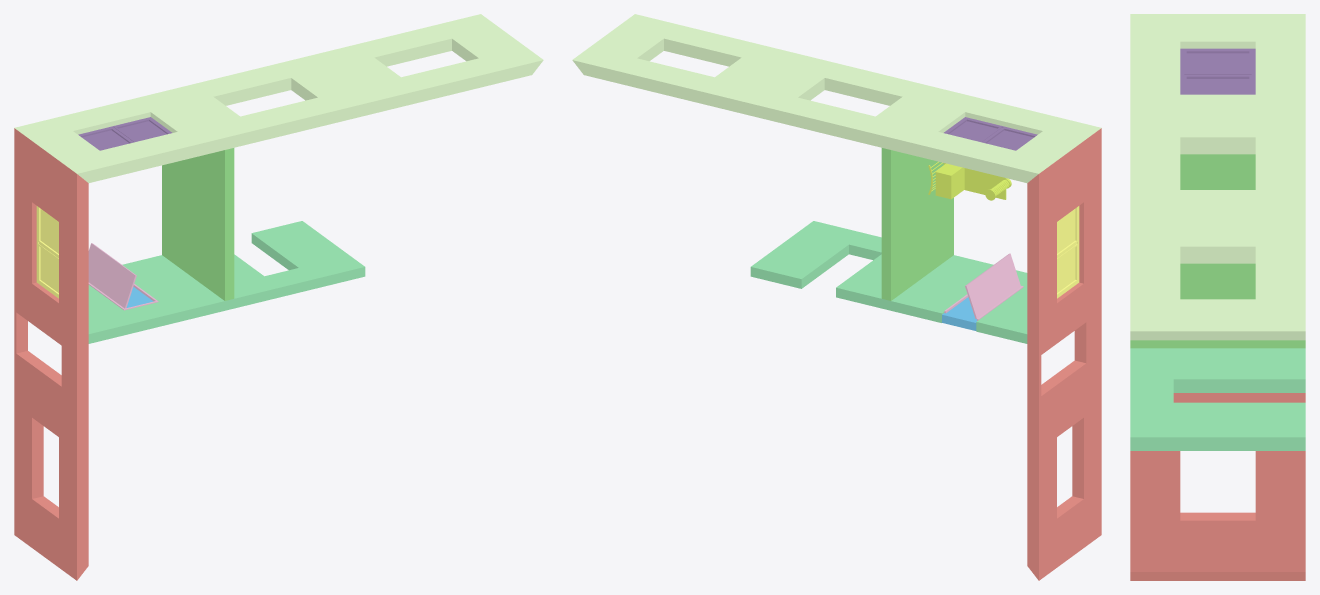
The model's file is space4.gltf.
The picture shows the model from 3 angles, left to right: view 1: azimuth 30°, elevation 25°; view 2: azimuth 150°, elevation 25°; view 3: azimuth 270°, elevation 25°; orthographic projection. The views are drawn at different scales.
Size of the model in its own units: 600 by 500 by 140.
